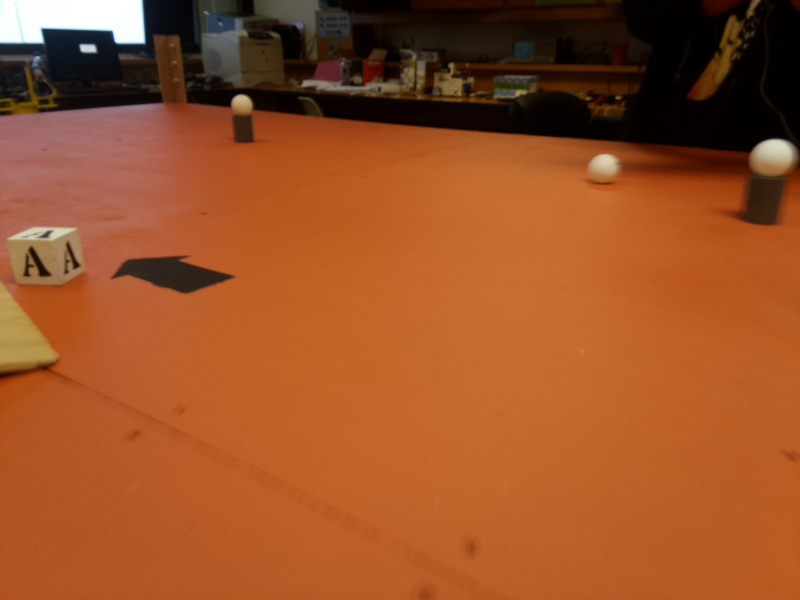blockA: (11, 223, 83, 288)
corner: (156, 33, 181, 106)
obstacle: (744, 138, 792, 233), (227, 92, 256, 146)
start: (106, 248, 242, 296)
